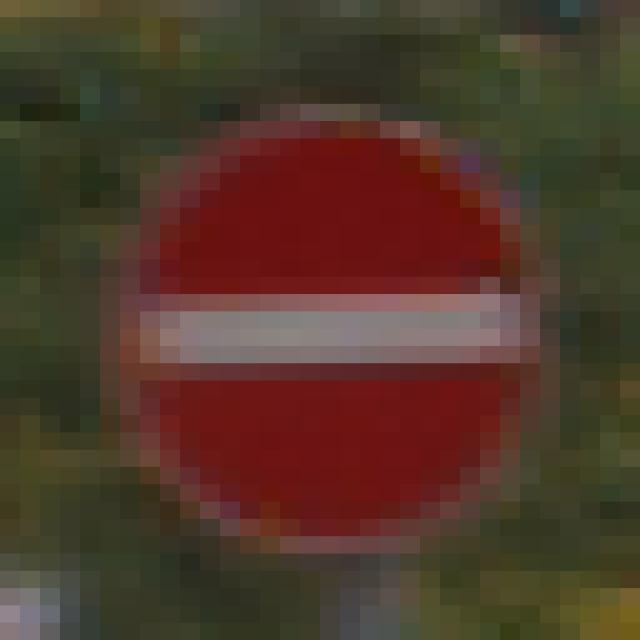No Entry: (101, 105, 521, 554)
